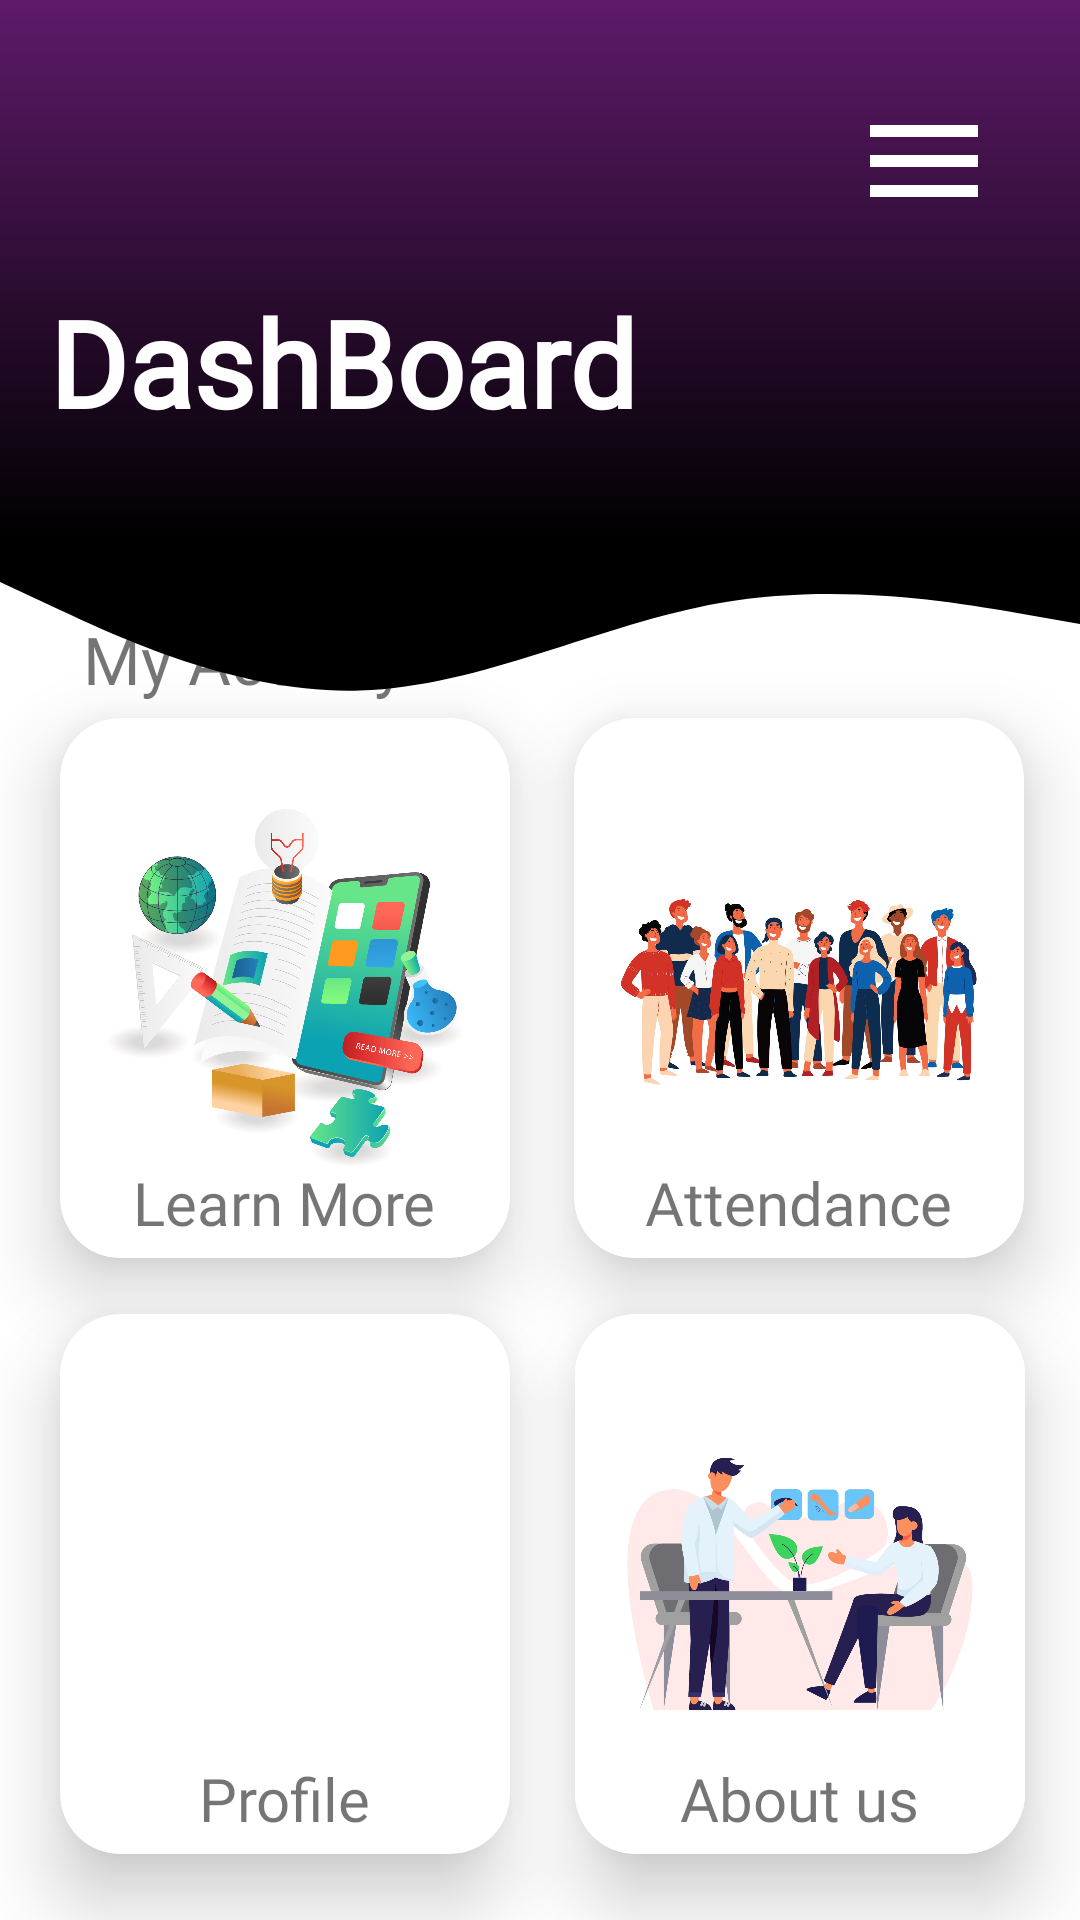

Where icons sit on this 1080 x 1920 app screen, as {"left": x1, "top": y1, "right": x2, "bottom": y2}:
menu: {"left": 870, "top": 125, "right": 978, "bottom": 197}
